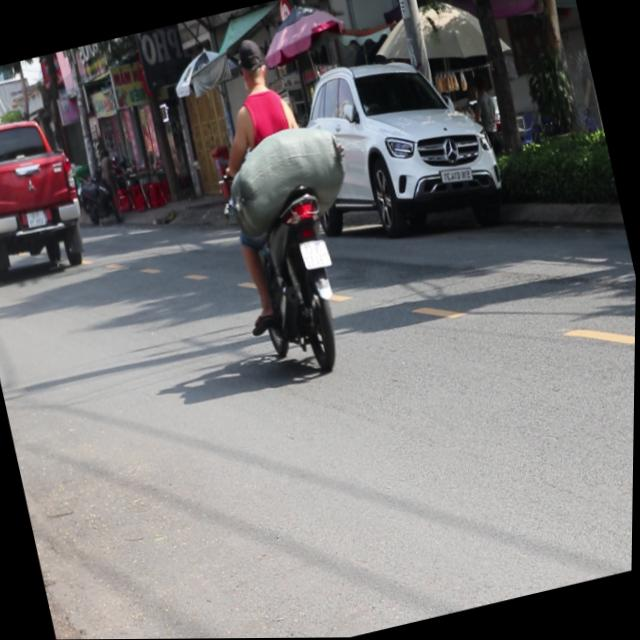licenseplate: (188, 25, 369, 386)
motorcyclist: (232, 34, 274, 95)
nohelmet: (299, 237, 334, 271)
